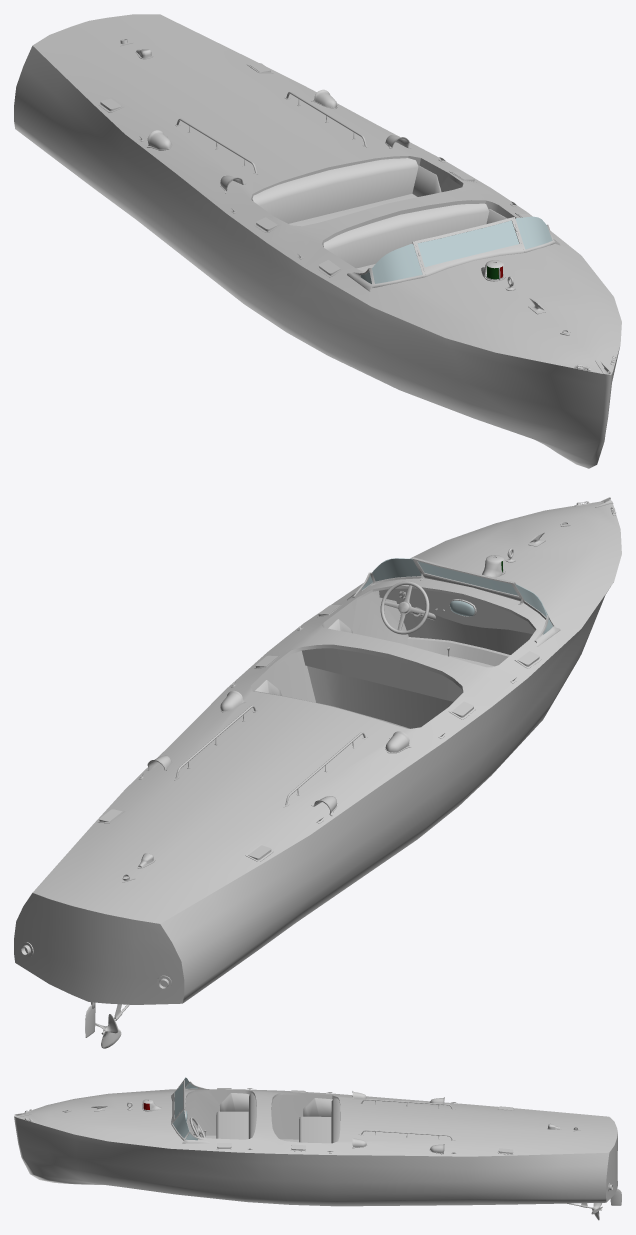
File: hacker-craft_runabout.obj
3 renders of one model, top to bottom at view 1: azimuth 30°, elevation 25°; view 2: azimuth 150°, elevation 25°; view 3: azimuth 270°, elevation 25°, orthographic. The views are drawn at different scales.
Parts seen in each view (by area): view 1: defaultMaterial.001, defaultMaterial.003, defaultMaterial.002; view 2: defaultMaterial.001, defaultMaterial.003, defaultMaterial.002; view 3: defaultMaterial.001, defaultMaterial.003, defaultMaterial.002.
Boxes of the visible parts, <box> form: defaultMaterial.001: <box>14,14,621,468</box>; defaultMaterial.003: <box>98,39,616,375</box>; defaultMaterial.002: <box>360,216,552,283</box>; defaultMaterial.001: <box>14,501,621,1048</box>; defaultMaterial.003: <box>21,497,616,989</box>; defaultMaterial.002: <box>362,558,553,634</box>; defaultMaterial.001: <box>14,1089,621,1220</box>; defaultMaterial.003: <box>14,1080,612,1191</box>; defaultMaterial.002: <box>143,1077,197,1140</box>.
Bounding box in the file's own units: 2.25 × 2.08 × 9.13.
